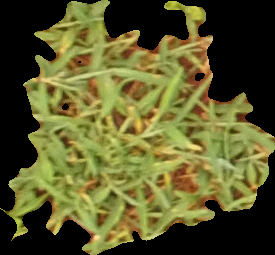grass: (1, 1, 274, 253)
